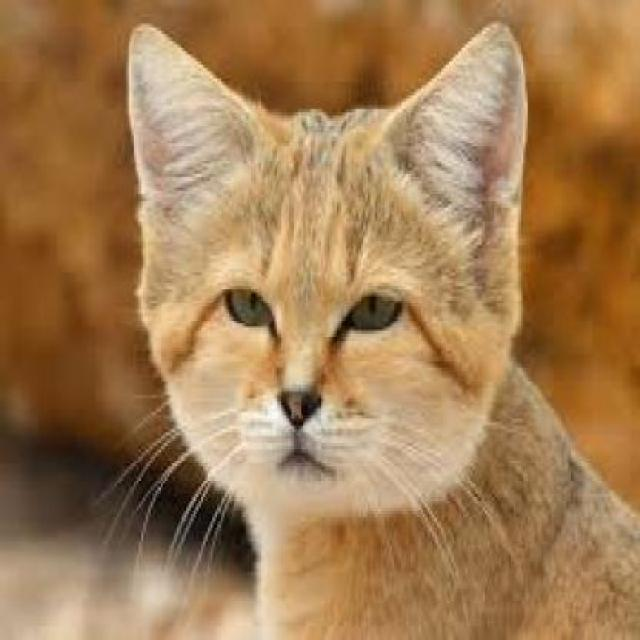cat: (124, 17, 638, 637)
